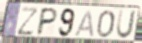9: (58, 8, 77, 38)
A: (74, 10, 95, 38)
O: (96, 10, 116, 39)
P: (35, 7, 59, 37)
U: (115, 9, 138, 41)
Z: (16, 6, 40, 37)
